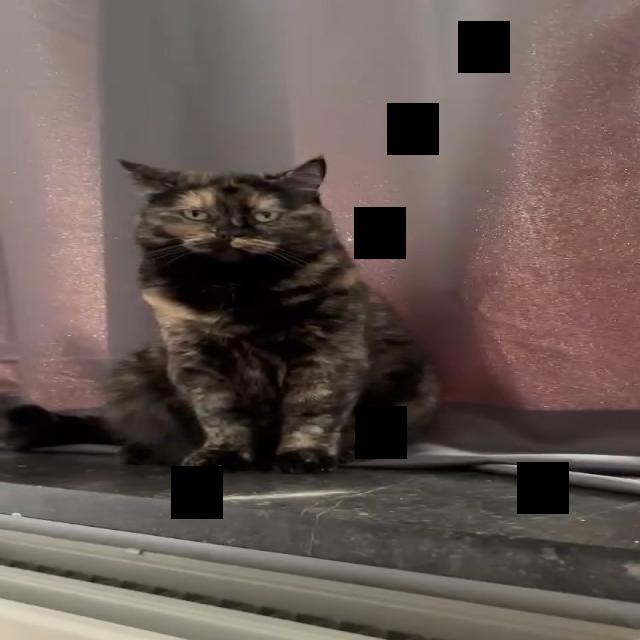authorized: (3, 153, 444, 474)
